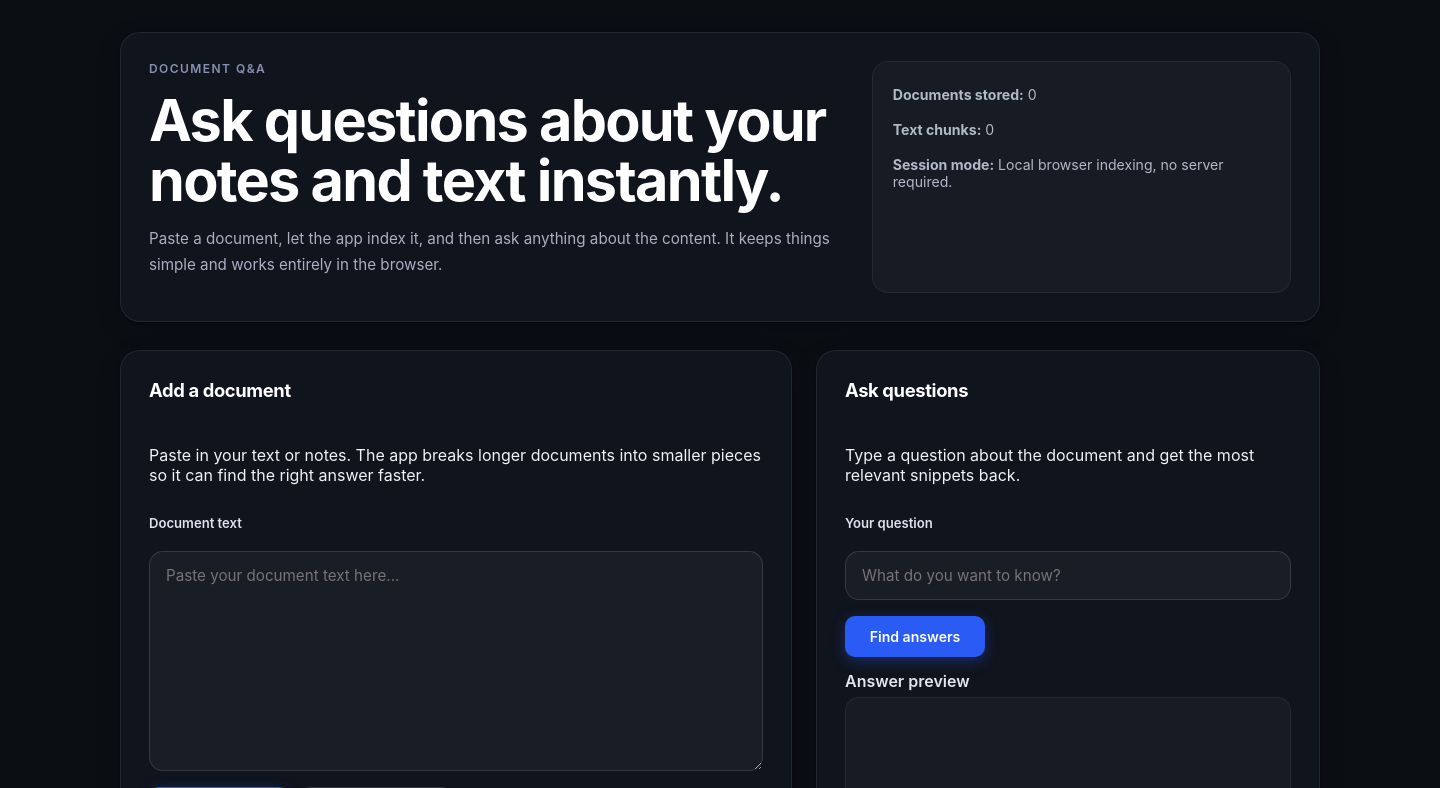
Scenario: DocQ Component Integration › shows notification when user asks a question without adding a document
The width and height of the screenshot is (1440, 788).
Step 1. Click the button "Find answers" → (915, 636), box [845,616,985,657]
(page scrolled)
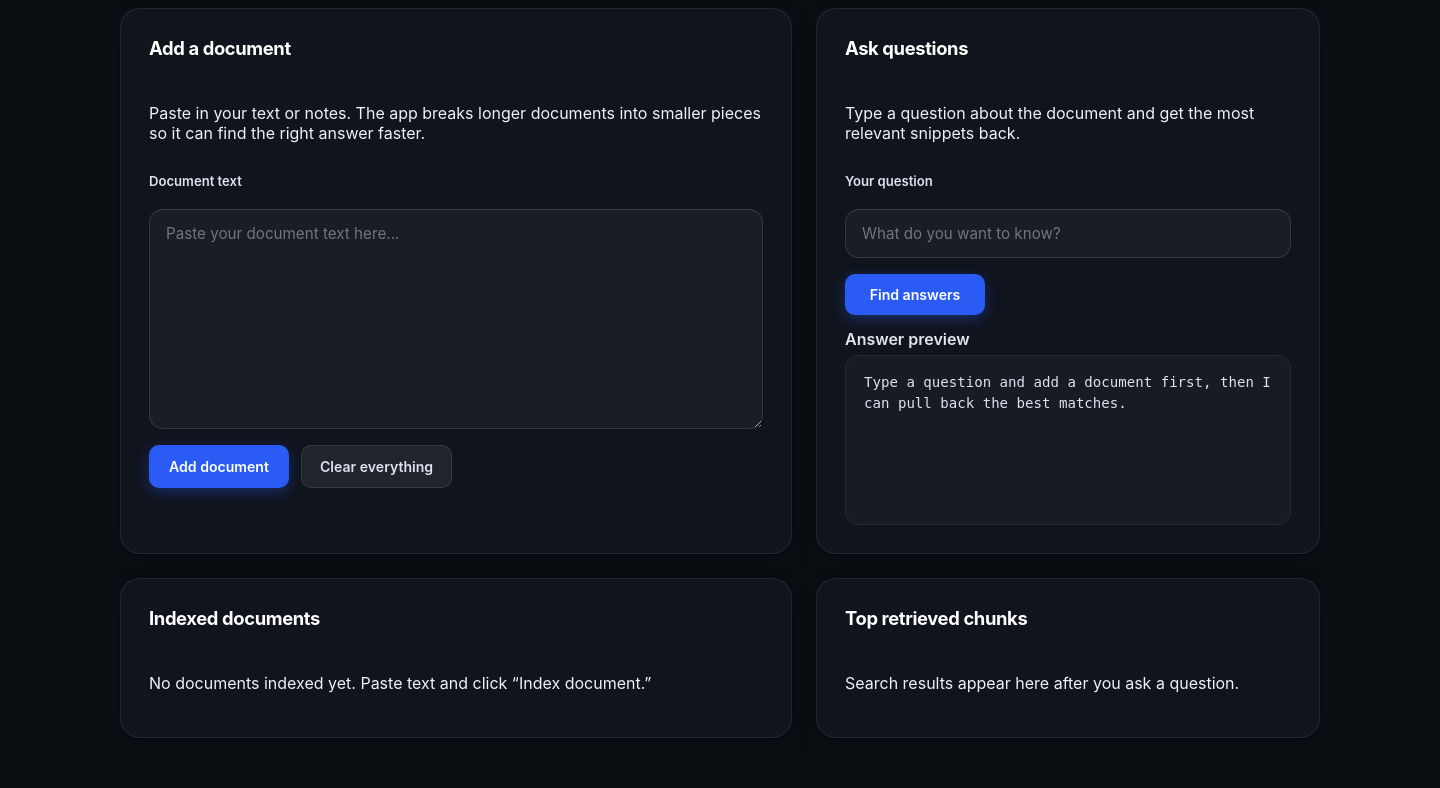
Check: the text "Type a question and add a document first, then I can pull back the best matches." is shown, box [845,355,1291,525]
